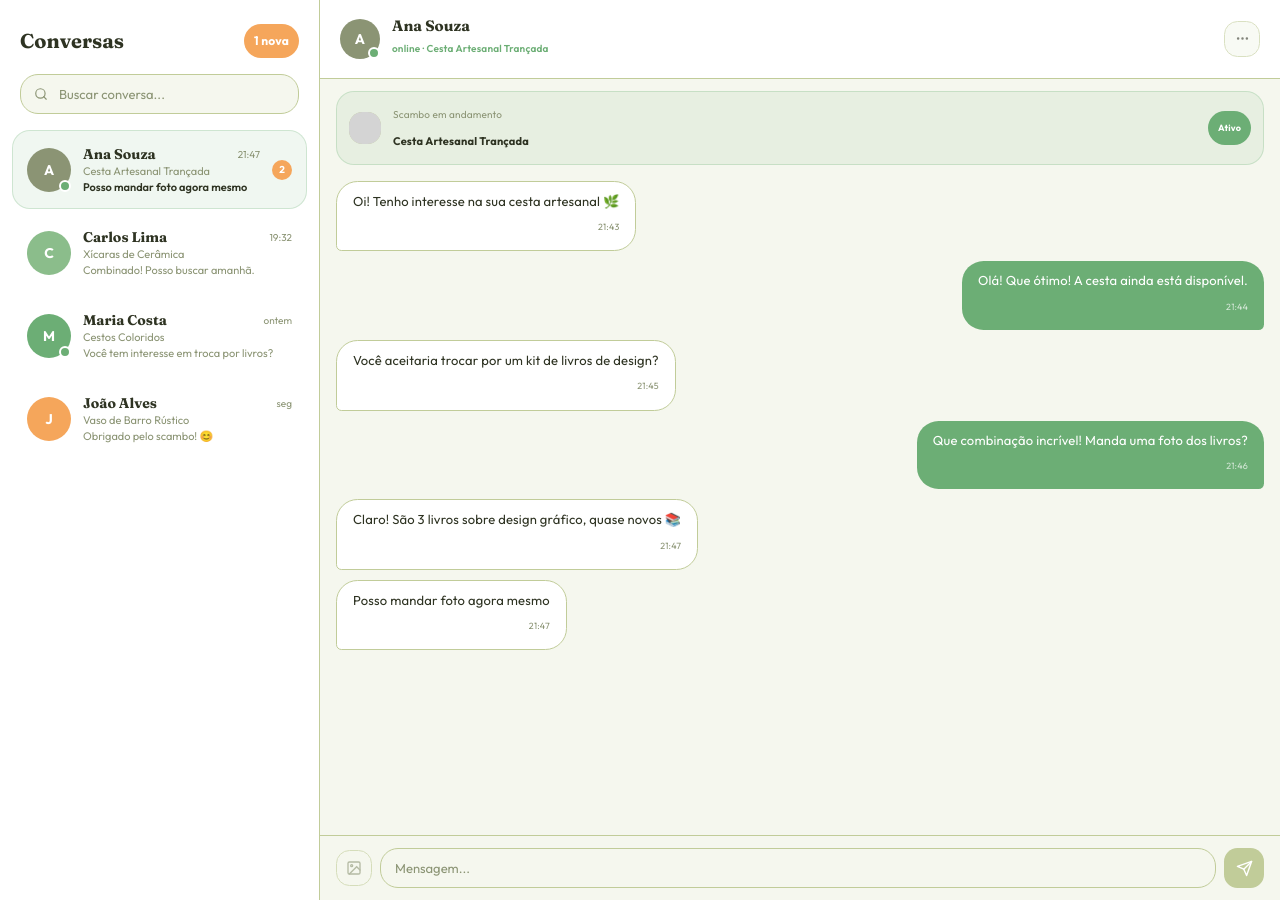
Test case: Tela de chat › Deve enviar uma mensagem
The image size is (1280, 900).
Expected: the text "Posso mandar foto agora mesmo" below "21:45" is shown, [353,592,550,608]
Expected: the button named "Enviar mensagem" is disabled, [1224,848,1264,888]
Type "Pode mandar sim!" into the field labelled "Mensagem" at (798, 868), box [380,848,1216,888]
Then press Enter
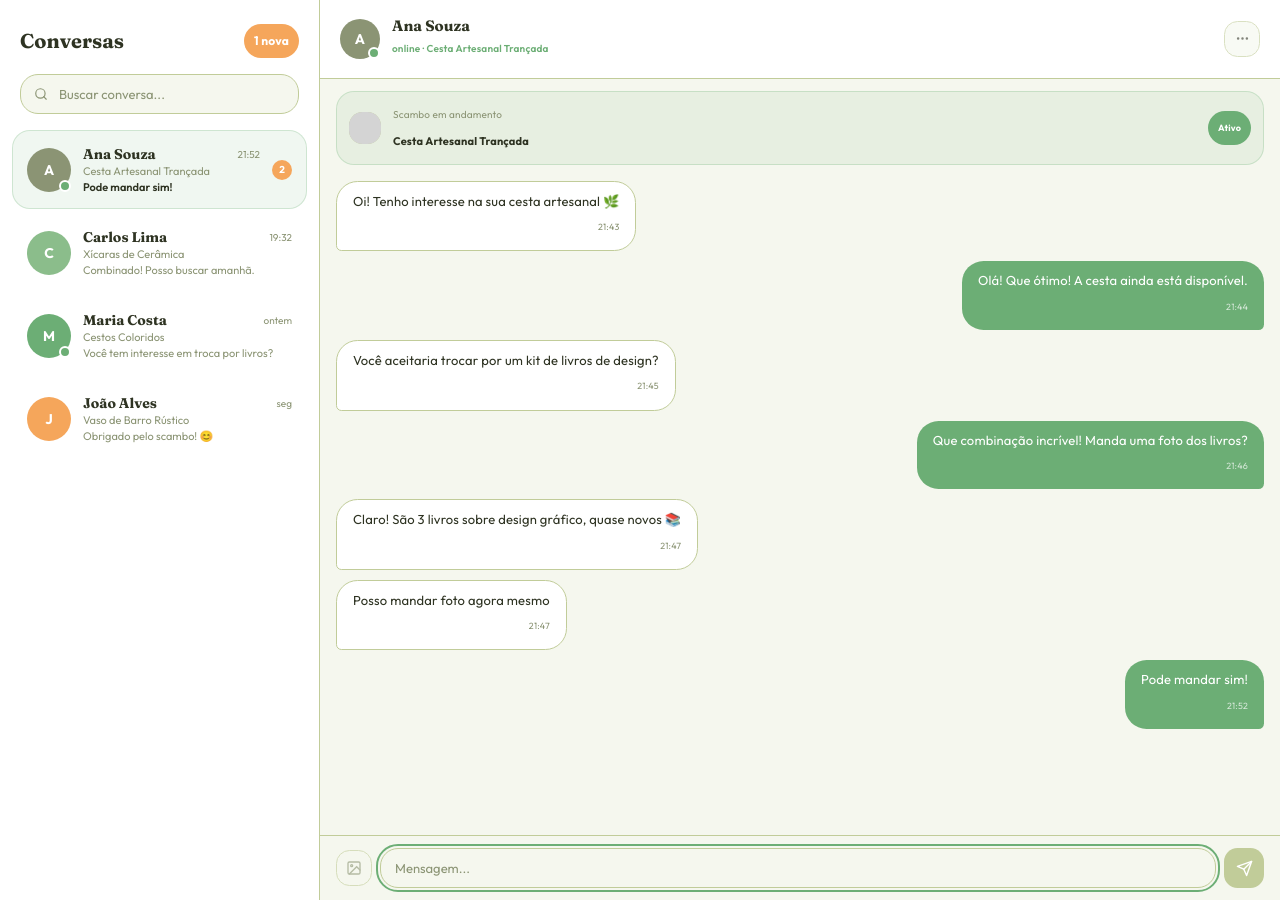
Now the text "Pode mandar sim!" is shown, box [1141,671,1248,687]
